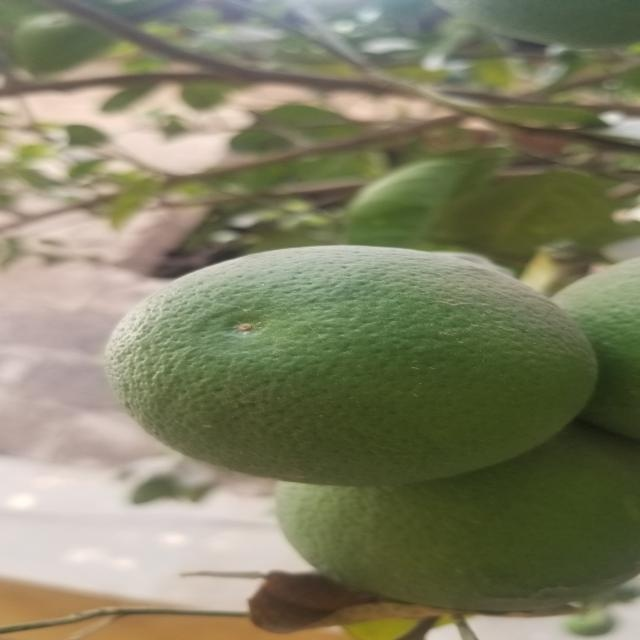agrume: (111, 249, 591, 487), (271, 445, 637, 611), (548, 252, 640, 441)
